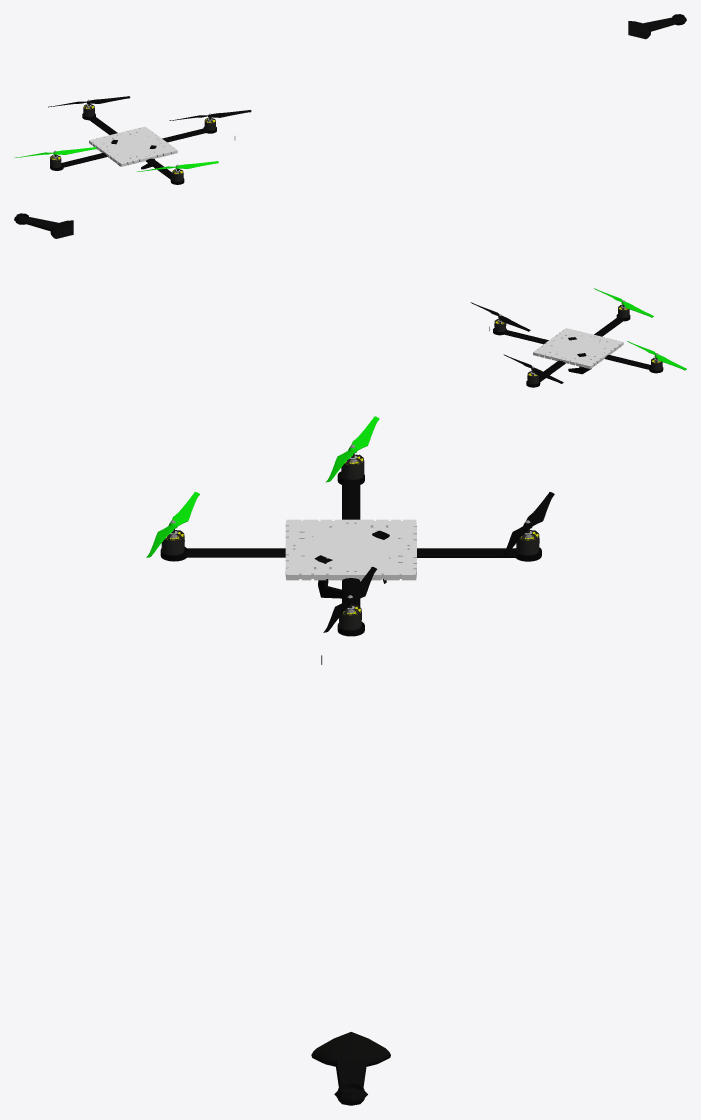
File: uav14.fbx
3 renders of one model, top to bottom at view 1: azimuth 30°, elevation 25°; view 2: azimuth 150°, elevation 25°; view 3: azimuth 270°, elevation 25°, orthographic. The views are drawn at different scales.
Visible parts, largest first — view 1: pCube56, pCylinder9, pCylinder115, pCylinder116; view 2: pCube56, pCylinder9, pCylinder115, pCylinder116; view 3: pCube56, pCylinder9, pCylinder114, pCylinder117.
Part boxes in pixels (x1=…): pCube56: x1=89, y1=126, x2=177, y2=166; pCylinder9: x1=628, y1=14, x2=686, y2=39; pCylinder115: x1=50, y1=153, x2=107, y2=170; pCylinder116: x1=162, y1=126, x2=216, y2=142; pCube56: x1=533, y1=328, x2=623, y2=368; pCylinder9: x1=14, y1=213, x2=73, y2=238; pCylinder115: x1=605, y1=355, x2=663, y2=373; pCylinder116: x1=493, y1=328, x2=548, y2=344; pCube56: x1=285, y1=519, x2=416, y2=580; pCylinder9: x1=311, y1=1032, x2=390, y2=1105; pCylinder114: x1=160, y1=547, x2=285, y2=561; pCylinder117: x1=417, y1=547, x2=541, y2=561.
Size of the model in its own units: 145 by 6.64 by 38.53.
